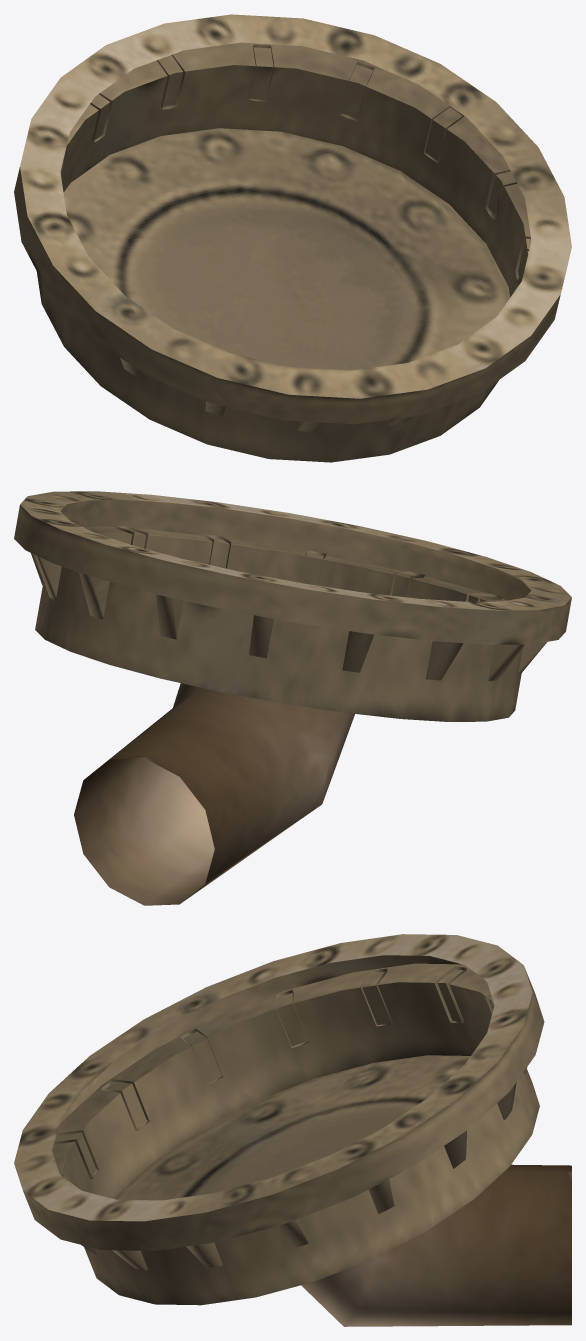
File: Body_SteerLeftRear.dae
3 renders of one model, top to bottom at view 1: azimuth 30°, elevation 25°; view 2: azimuth 150°, elevation 25°; view 3: azimuth 270°, elevation 25°, orthographic.
Visible parts, largest first — view 1: suspension_right_rear_axl; view 2: suspension_right_rear_axl; view 3: suspension_right_rear_axl.
Boxes of the visible parts, box(x1,y1,x2,y2) form: suspension_right_rear_axl: box(14, 14, 571, 462); suspension_right_rear_axl: box(14, 491, 571, 905); suspension_right_rear_axl: box(14, 934, 571, 1326).
Size of the model in its own units: 0.1257 by 0.1271 by 0.0818.
1 material, 1 textured.
